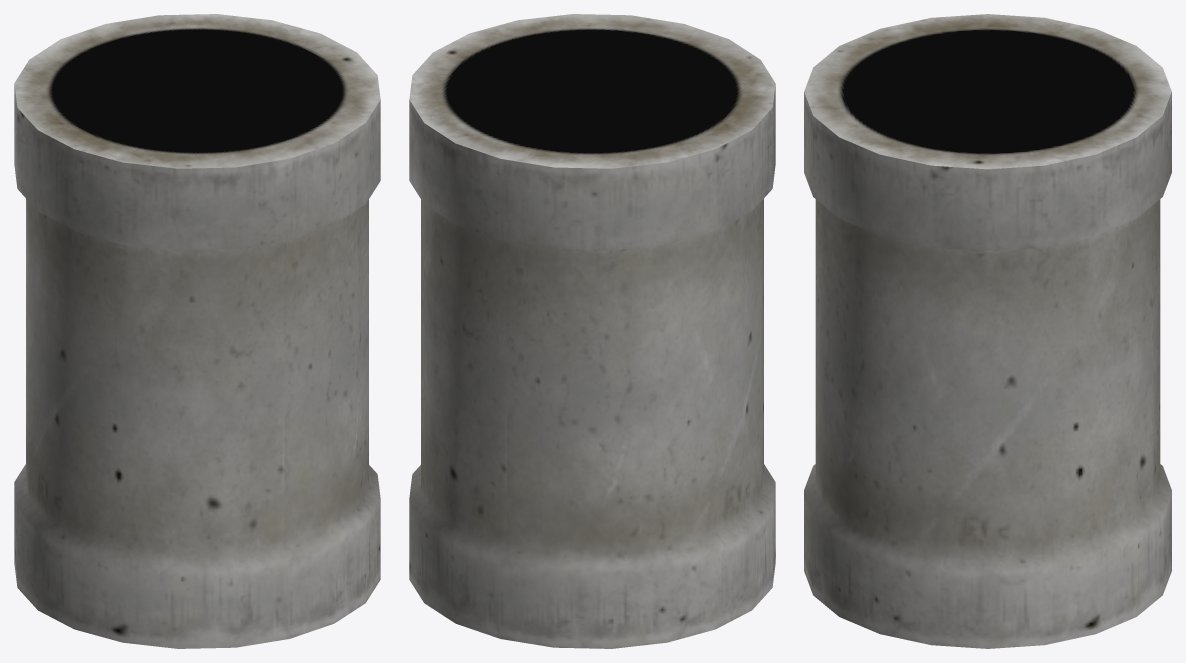
The model's file is PlasticPipe_13a_snaps011.fbx.
3 renders of one model, left to right at view 1: azimuth 30°, elevation 25°; view 2: azimuth 150°, elevation 25°; view 3: azimuth 270°, elevation 25°, orthographic.
Visible parts, largest first — view 1: PlasticPipe_13a_snaps011_LOD0; view 2: PlasticPipe_13a_snaps011_LOD0; view 3: PlasticPipe_13a_snaps011_LOD0.
Boxes of the visible parts, x1=… form: PlasticPipe_13a_snaps011_LOD0: x1=14, y1=14, x2=380, y2=648; PlasticPipe_13a_snaps011_LOD0: x1=409, y1=14, x2=775, y2=648; PlasticPipe_13a_snaps011_LOD0: x1=804, y1=14, x2=1171, y2=648.
Size of what is drawn, in the model's own units: 26.42 by 38 by 26.42.
